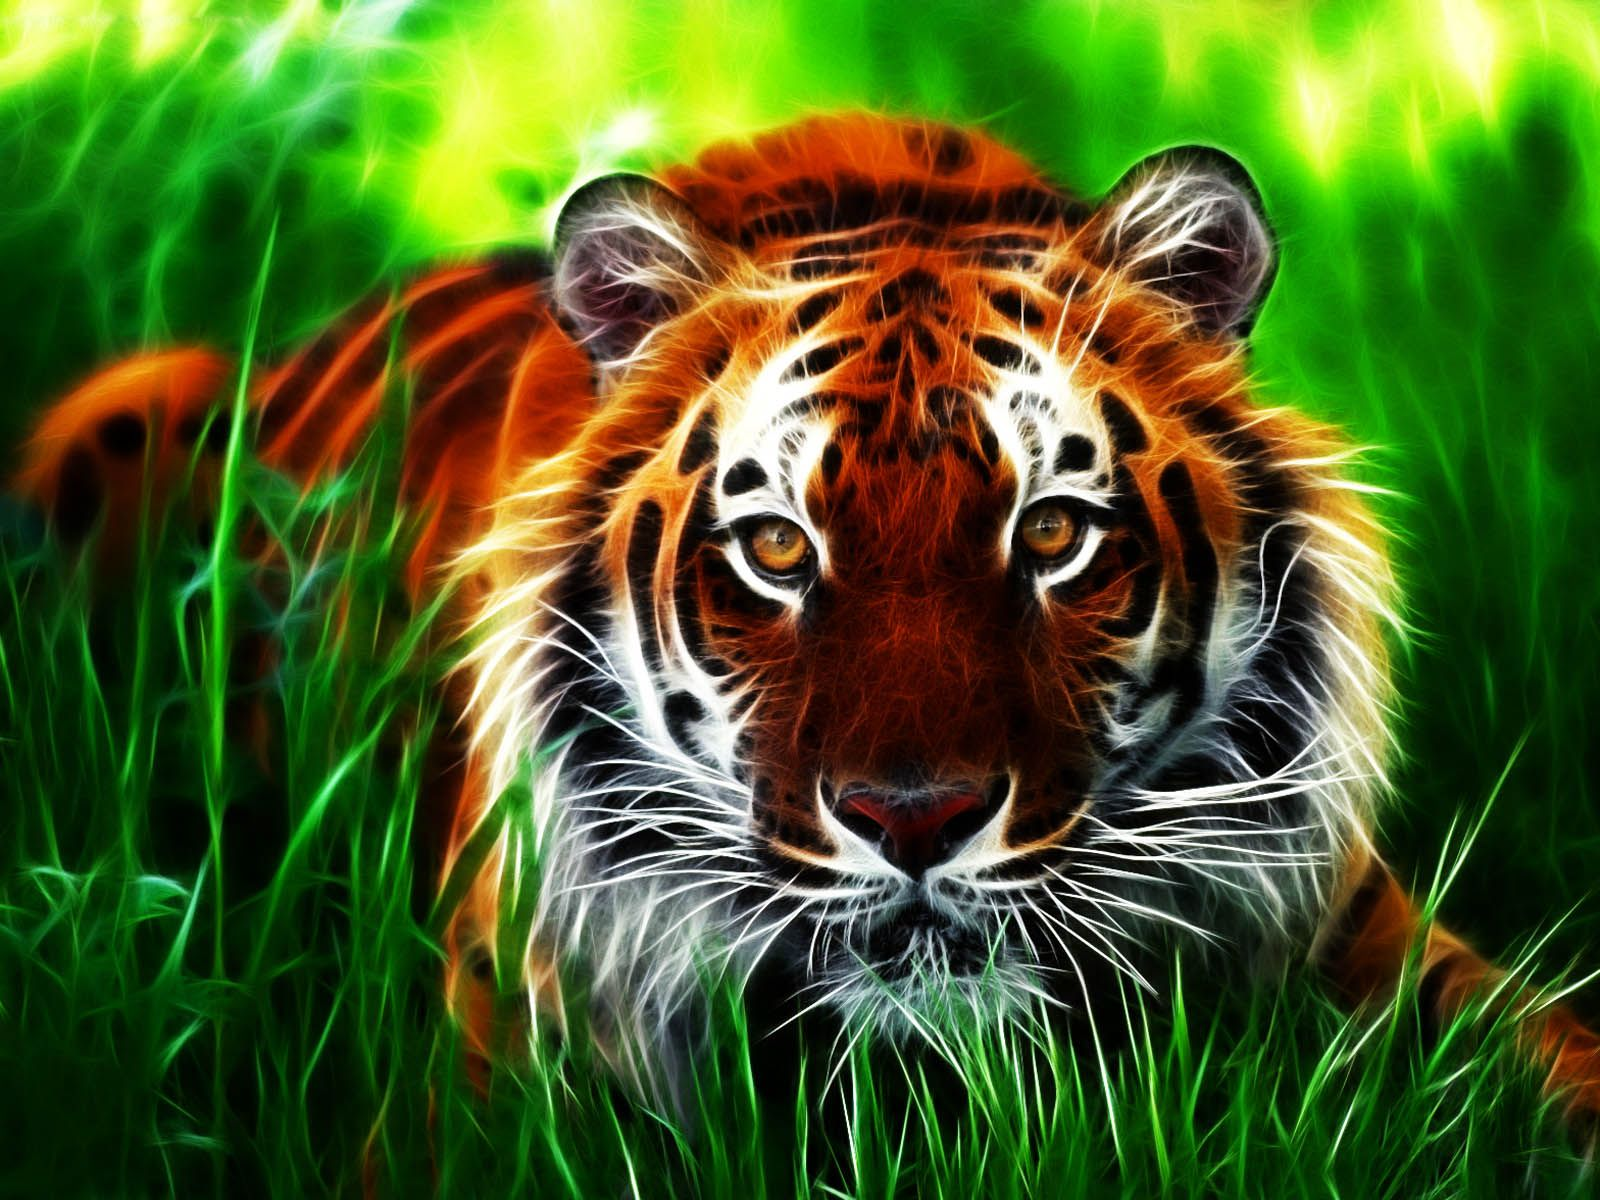Tigrew: (120, 71, 1390, 972)
